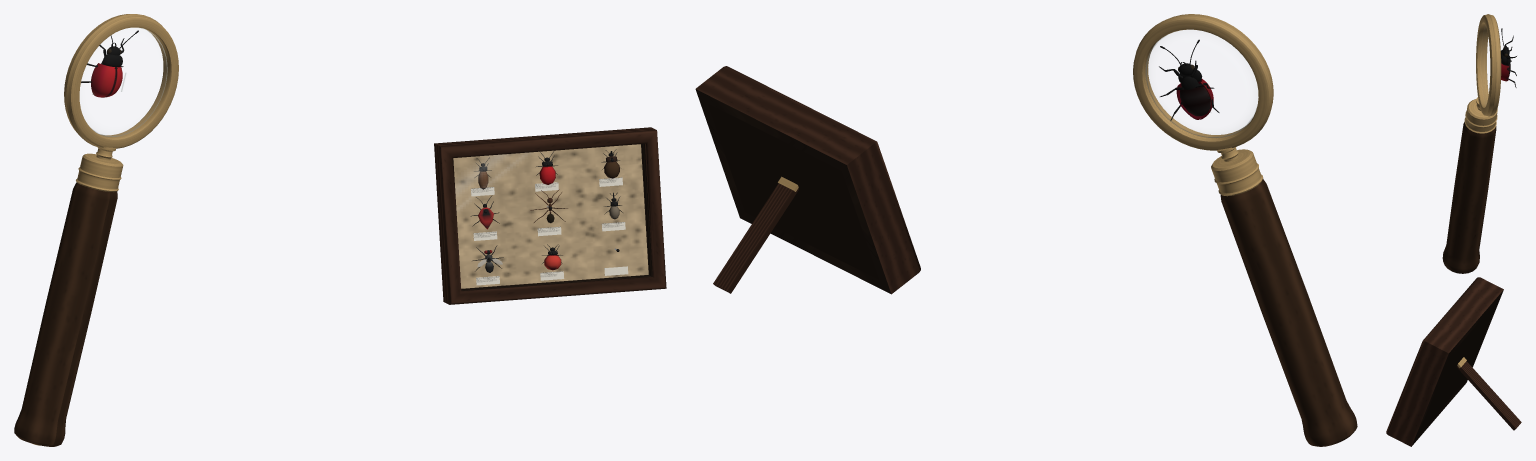
3 views of the same model, side by side, from view 1: azimuth 30°, elevation 25°; view 2: azimuth 150°, elevation 25°; view 3: azimuth 270°, elevation 25° (orthographic). The views are drawn at different scales.
Visible parts, largest first — view 1: qa_caixa_malha, qa_lupa_malha, qa_bug_elitro_esq_malha; view 2: qa_caixa_malha, qa_lupa_malha, qa_bug_corpo; view 3: qa_caixa_malha, qa_lupa_malha, qa_bug_corpo.
Boxes of the visible parts, x1=… form: qa_caixa_malha: x1=434, y1=127, x2=666, y2=304; qa_lupa_malha: x1=14, y1=14, x2=178, y2=446; qa_bug_elitro_esq_malha: x1=91, y1=63, x2=115, y2=97; qa_caixa_malha: x1=695, y1=66, x2=920, y2=294; qa_lupa_malha: x1=1133, y1=14, x2=1357, y2=446; qa_bug_corpo: x1=1160, y1=39, x2=1210, y2=116; qa_caixa_malha: x1=1386, y1=277, x2=1521, y2=446; qa_lupa_malha: x1=1442, y1=14, x2=1501, y2=273; qa_bug_corpo: x1=1501, y1=28, x2=1510, y2=77.
Bounding box in the file's own units: 0.4252 × 0.2538 × 0.1093.
4 materials, 4 textured.
